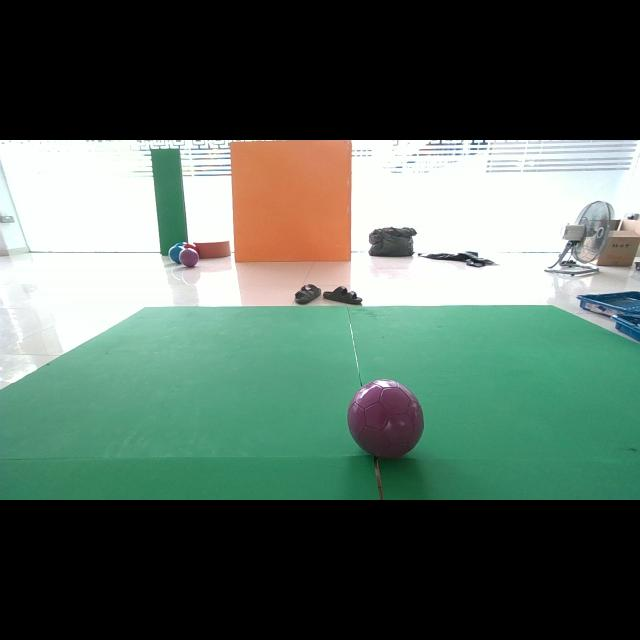P: (348, 379, 424, 459)
